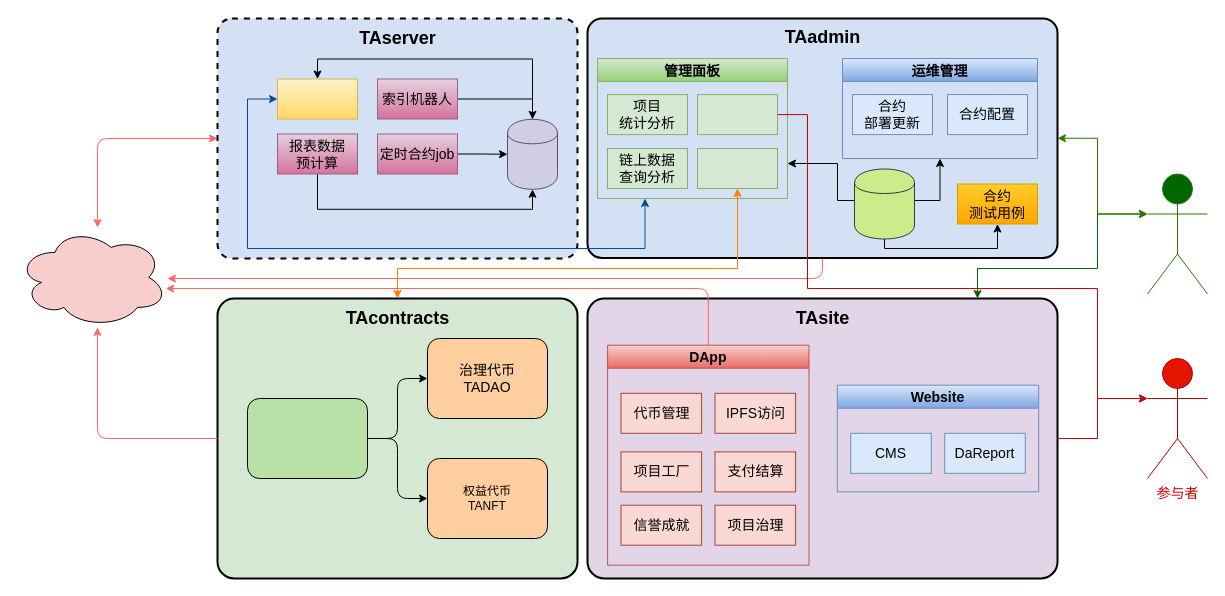
The diagram is 1225 pixels wide and 596 high, and some of its shapes have lost their labels. Each missing label, with the centre of its shape:
"EVM 公链" belongs at pixel 92 276.
"MySql" belongs at pixel 532 153.
"业务逻辑 合约交互" belongs at pixel 737 168.
"个人Dashboard" belongs at pixel 737 114.
"平台管理合约 TAService" belongs at pixel 307 438.
"配置库" belongs at pixel 884 203.
"链上数据 快速查询" belongs at pixel 317 98.
"项目方" belongs at pixel 1177 233.
